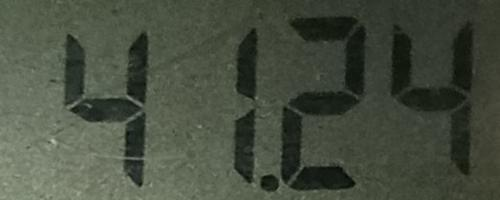.: (256, 170, 282, 197)
